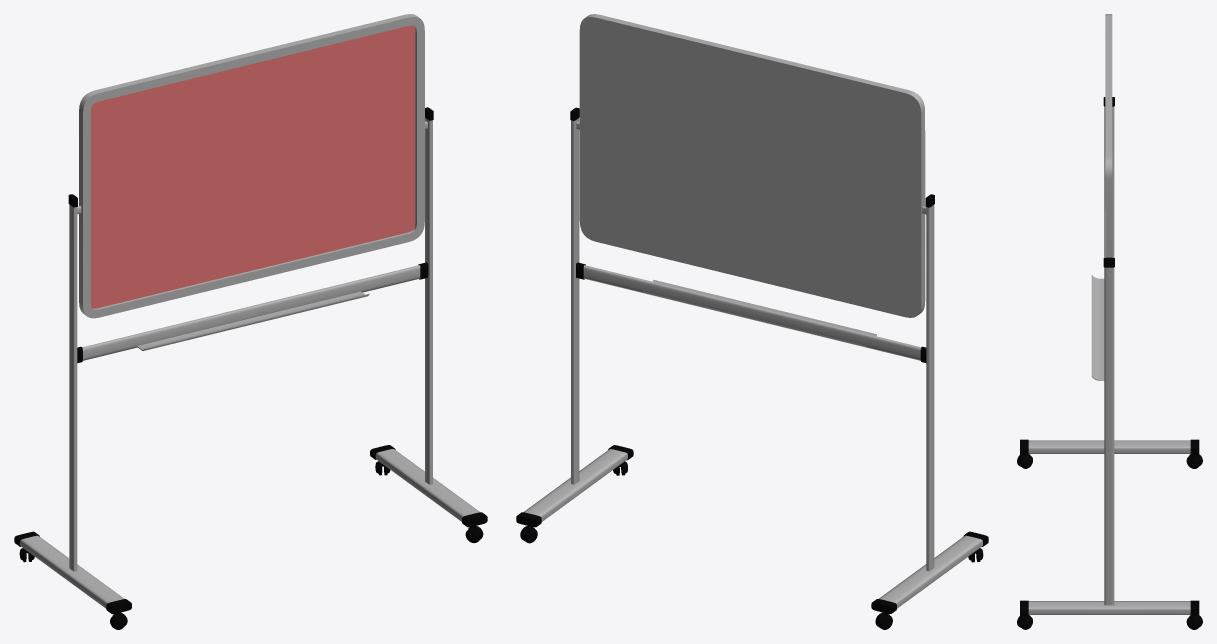
File: whiteboard.fbx
3 views of the same model, side by side, from view 1: azimuth 30°, elevation 25°; view 2: azimuth 150°, elevation 25°; view 3: azimuth 270°, elevation 25° (orthographic). The views are drawn at different scales.
Parts seen in each view (by area): view 1: Object001, Object014; view 2: Object014; view 3: Object014.
Boxes of the visible parts, <box> form: Object001: <box>91,25,415,308</box>; Object014: <box>14,14,487,629</box>; Object014: <box>516,14,988,629</box>; Object014: <box>1017,14,1202,629</box>.
Size of the model in its own units: 1020 by 1289 by 470.
